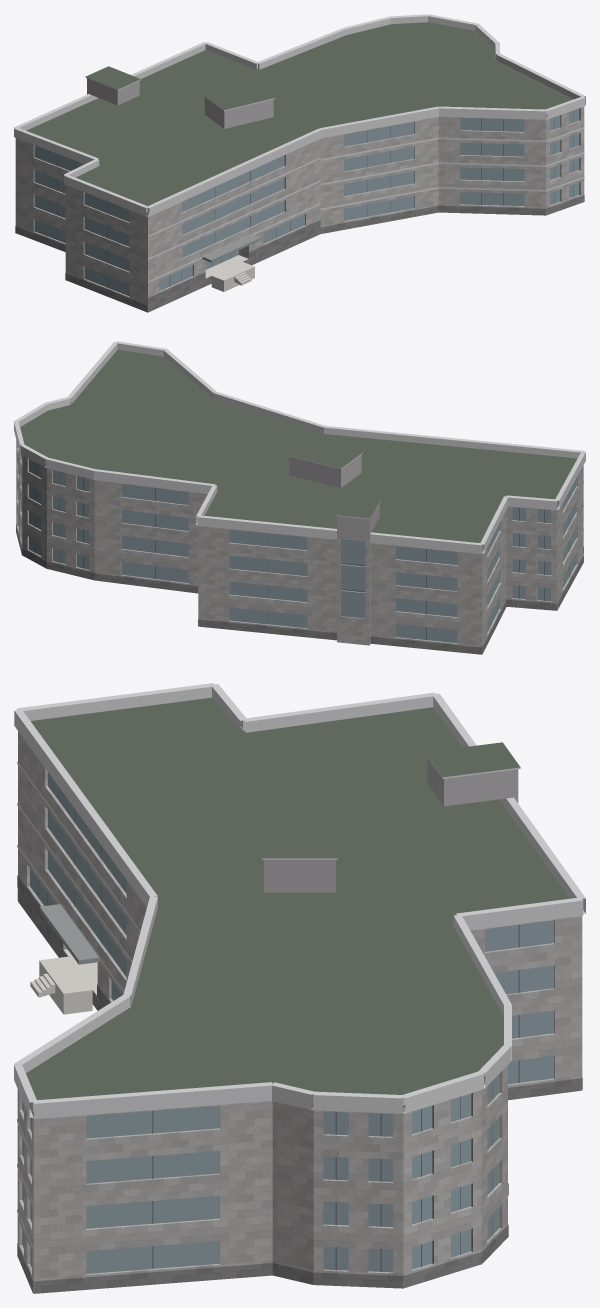
3 renders of one model, top to bottom at view 1: azimuth 30°, elevation 25°; view 2: azimuth 150°, elevation 25°; view 3: azimuth 270°, elevation 25°, orthographic. The views are drawn at different scales.
Parts seen in each view (by area): view 1: b300__roof, b300__wall, b300__glass, b300__trim, b300__base, b300__wall2, b300__entranceStair, b300__canopy, b300__frame; view 2: b300__roof, b300__wall, b300__glass, b300__trim, b300__base, b300__wall2, b300__frame; view 3: b300__roof, b300__wall, b300__glass, b300__trim, b300__base, b300__wall2, b300__entranceStair, b300__canopy, b300__frame.
Part boxes in pixels (x1,y1,x2,y2): b300__roof: (26,22,573,312); b300__wall: (15,106,584,312); b300__glass: (34,108,579,296); b300__trim: (14,14,585,282); b300__base: (15,195,584,312); b300__wall2: (87,78,273,128); b300__entranceStair: (205,255,254,291); b300__canopy: (202,234,260,262); b300__frame: (57,110,573,287); b300__roof: (20,349,577,550); b300__wall: (16,440,583,654); b300__glass: (18,455,576,643); b300__trim: (14,341,585,553); b300__base: (16,524,583,654); b300__wall2: (289,455,379,644); b300__frame: (35,463,569,640); b300__roof: (19,697,569,1288); b300__wall: (17,731,582,1292); b300__glass: (22,772,553,1273); b300__trim: (14,683,585,1249); b300__base: (17,875,582,1293); b300__wall2: (264,758,518,892); b300__entranceStair: (30,949,97,1014); b300__canopy: (39,904,99,964); b300__frame: (38,809,519,1271).
Bounding box in the file's own units: 71.99 × 18.22 × 41.35.
10 materials, 2 textured.
